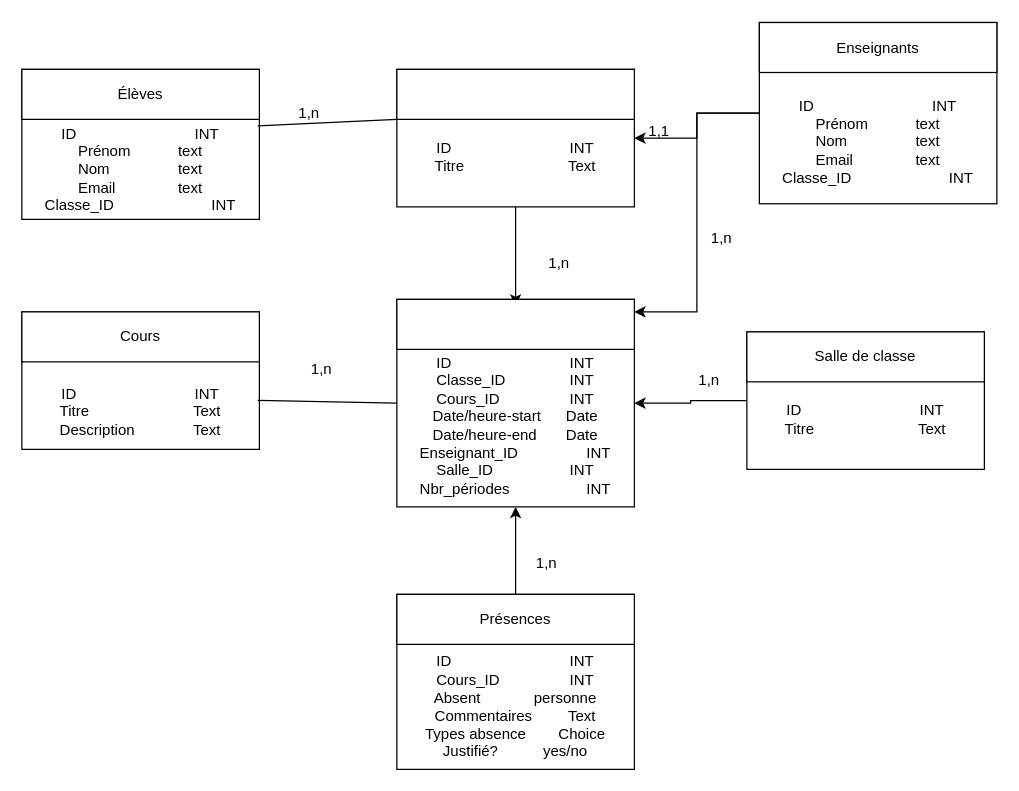
Some shapes in this 1019 by 791 pixel diagram are drawn without their labels. Here are the shapes that lost their labels. From the top down, the centre of each, then its label:
point (515, 93): Classes
point (515, 323): Classes à cours
